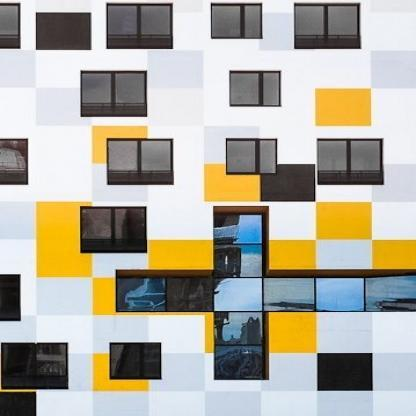Building Outline: (0, 0, 416, 415)
Facade: (0, 1, 416, 416)
Floor: (1, 339, 415, 412), (1, 269, 415, 336), (1, 200, 415, 267), (1, 67, 415, 132), (1, 134, 415, 198), (1, 1, 415, 63)
Floor Slab: (1, 63, 415, 67), (1, 198, 415, 201), (1, 336, 415, 339), (1, 132, 415, 134), (1, 267, 415, 269), (1, 412, 415, 414)
Window: (116, 213, 416, 380), (107, 138, 174, 185), (80, 206, 147, 253), (2, 343, 69, 390), (81, 70, 147, 117), (318, 138, 384, 185), (295, 3, 361, 49), (107, 3, 173, 49), (109, 343, 162, 380), (230, 70, 282, 107), (226, 138, 277, 175), (211, 3, 263, 39), (0, 138, 28, 185), (0, 274, 20, 321), (0, 3, 20, 49)
Window Hole: (115, 206, 416, 380)
